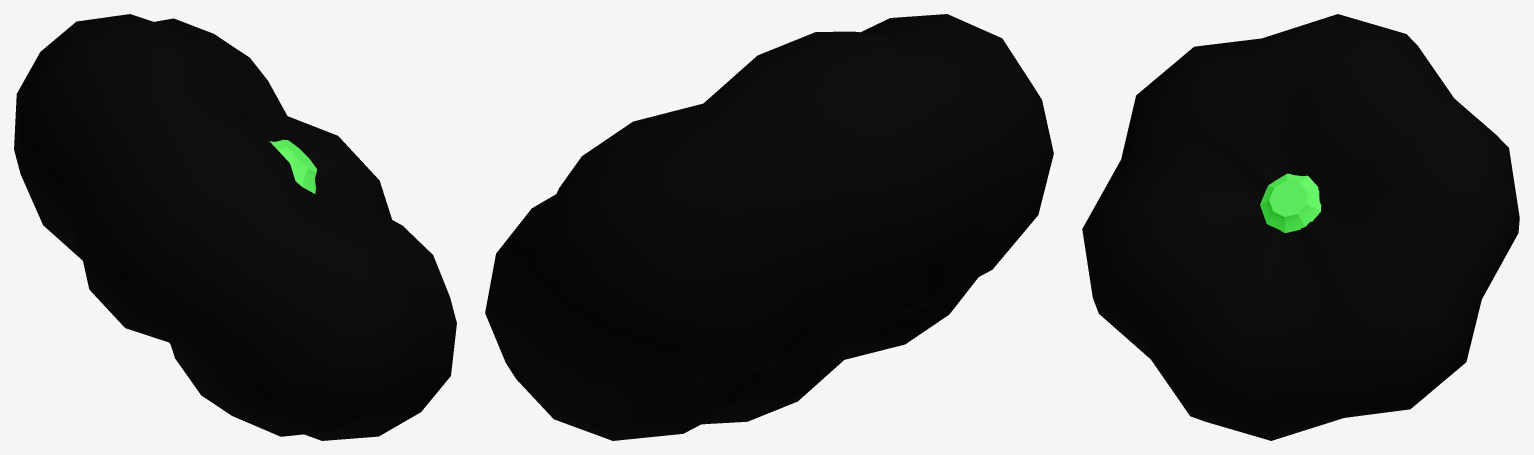
File: fruit2.fbx
The picture shows the model from 3 angles, left to right: view 1: azimuth 30°, elevation 25°; view 2: azimuth 150°, elevation 25°; view 3: azimuth 270°, elevation 25°; orthographic projection. The views are drawn at different scales.
Visible parts, largest first — view 1: polySurface4; view 2: polySurface4; view 3: polySurface4.
Part boxes in pixels (box(x1,y1,x2,y2)): polySurface4: box(14, 14, 456, 440); polySurface4: box(485, 14, 1053, 440); polySurface4: box(1082, 14, 1519, 440).
Size of the model in its own units: 0.908 by 0.9114 by 1.08.
